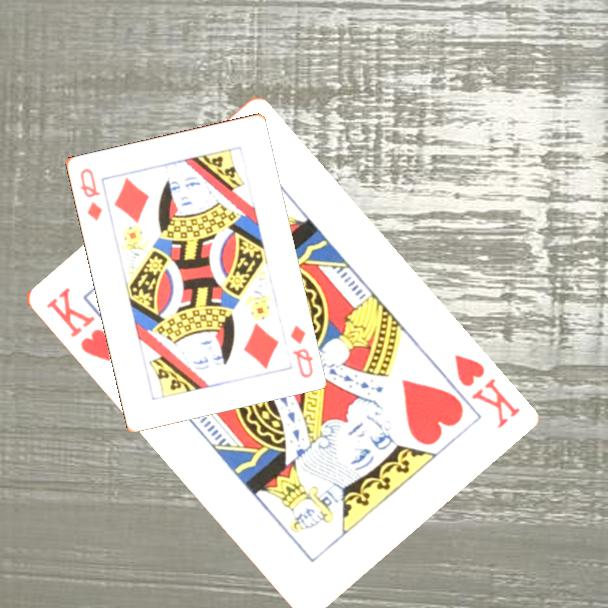d12: (286, 321, 316, 381), (76, 164, 105, 224)
h13: (449, 350, 522, 431), (42, 284, 114, 365)
